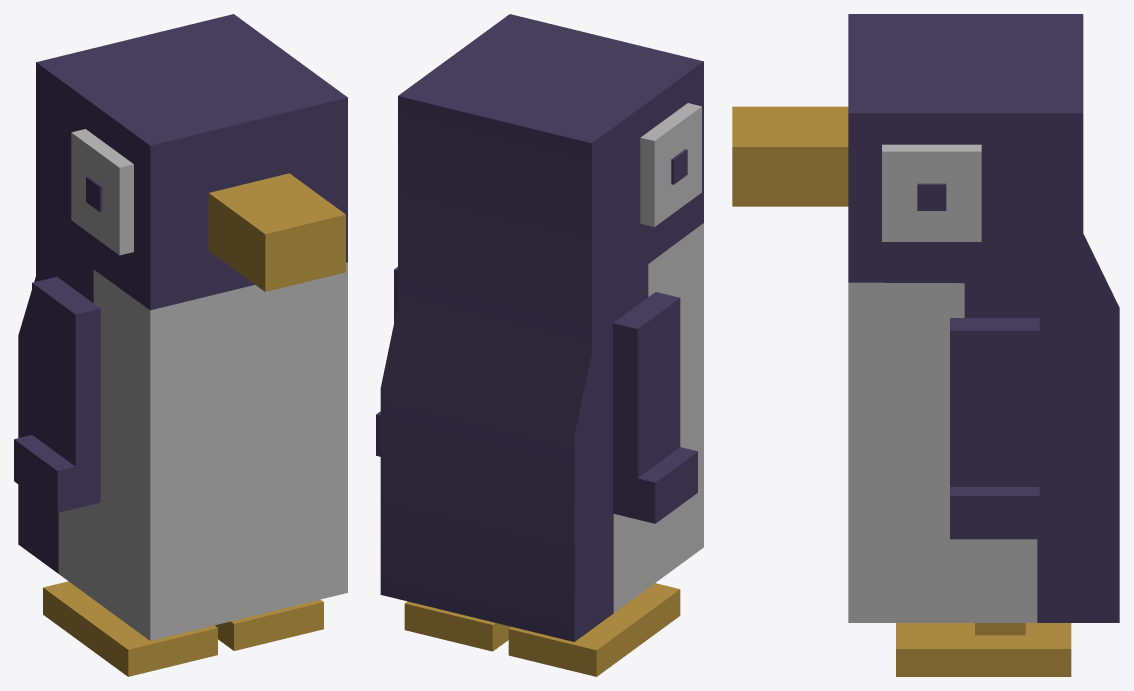
Rendered from penguin.fbx.
3 views of the same model, side by side, from view 1: azimuth 30°, elevation 25°; view 2: azimuth 150°, elevation 25°; view 3: azimuth 270°, elevation 25° (orthographic). The views are drawn at different scales.
Visible parts, largest first — view 1: penguin; view 2: penguin; view 3: penguin.
Boxes of the visible parts, x1=… form: penguin: x1=14, y1=14, x2=347, y2=676; penguin: x1=376, y1=14, x2=703, y2=676; penguin: x1=732, y1=14, x2=1119, y2=676.
Size of the model in its own units: 0.7123 by 1.31 by 0.8162.
